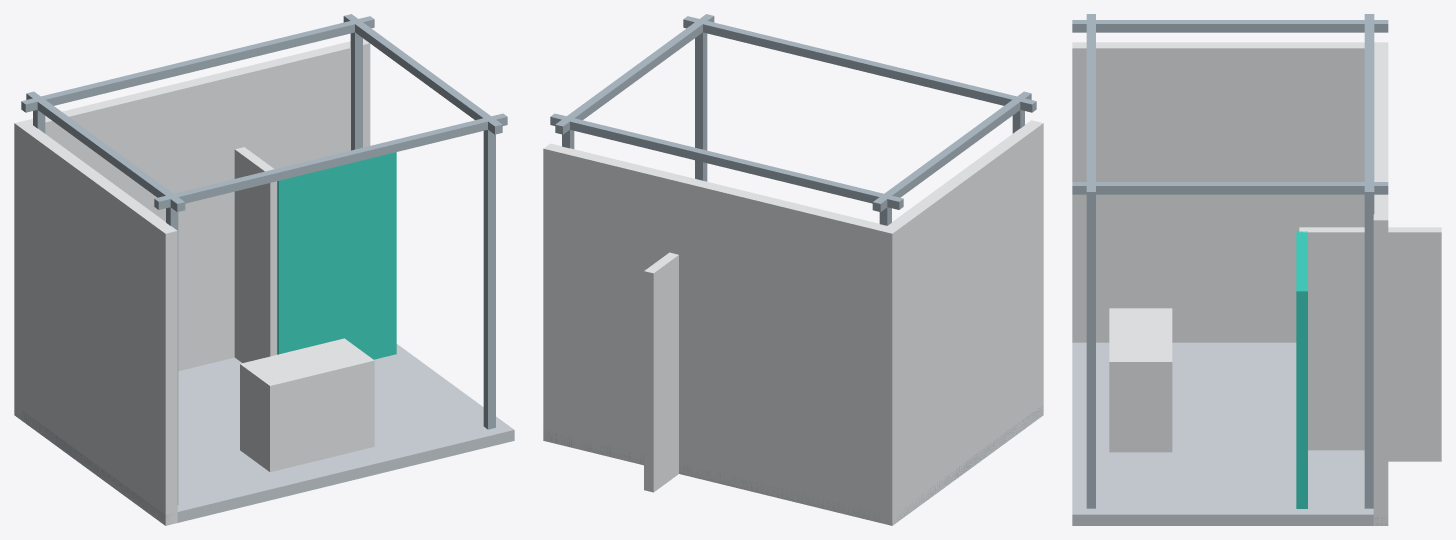
3 renders of one model, left to right at view 1: azimuth 30°, elevation 25°; view 2: azimuth 150°, elevation 25°; view 3: azimuth 270°, elevation 25°, orthographic. The views are drawn at different scales.
Visible parts, largest first — view 1: Exhibition Booth Concept; view 2: Exhibition Booth Concept; view 3: Exhibition Booth Concept.
Boxes of the visible parts, x1=… form: Exhibition Booth Concept: x1=14, y1=14, x2=514, y2=525; Exhibition Booth Concept: x1=543, y1=14, x2=1043, y2=525; Exhibition Booth Concept: x1=1072, y1=14, x2=1441, y2=525.
Bounding box in the file's own units: 4 × 3.49 × 3.51.
